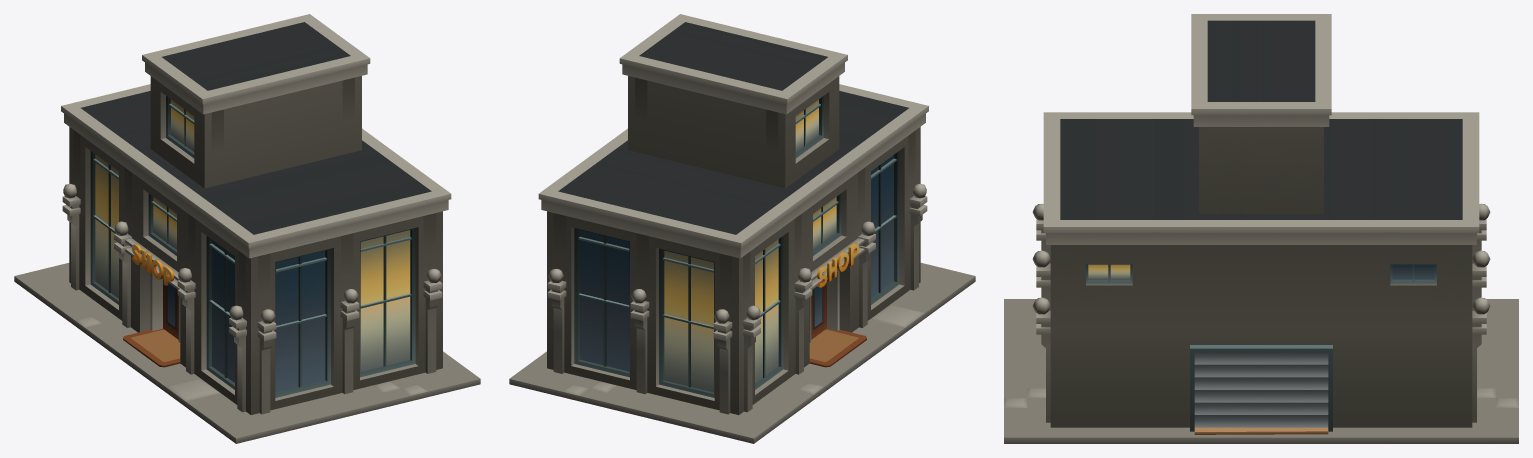
The model's file is Building_10A.fbx.
The picture shows the model from 3 angles, left to right: view 1: azimuth 30°, elevation 25°; view 2: azimuth 150°, elevation 25°; view 3: azimuth 270°, elevation 25°; orthographic projection. The views are drawn at different scales.
Parts seen in each view (by area): view 1: Building_10A, Window_Lights_10A, Logo_10A; view 2: Building_10A, Window_Lights_10A, Logo_10A; view 3: Building_10A, Window_Lights_10A.
Part boxes in pixels (x1,y1,x2,y2): Building_10A: [14, 14, 480, 443]; Window_Lights_10A: [95, 99, 410, 371]; Logo_10A: [131, 244, 173, 285]; Building_10A: [509, 14, 975, 443]; Window_Lights_10A: [664, 99, 836, 392]; Logo_10A: [817, 243, 859, 287]; Building_10A: [1004, 14, 1518, 443]; Window_Lights_10A: [1088, 264, 1130, 279].
Bounding box in the file's own units: 14 × 15.01 × 22.
